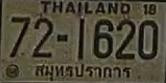0: (137, 19, 157, 59)
1: (78, 18, 84, 59)
2: (32, 17, 52, 57), (116, 18, 134, 58)
6: (93, 18, 112, 57)
7: (9, 16, 29, 57)
SPK: (33, 62, 133, 82)
